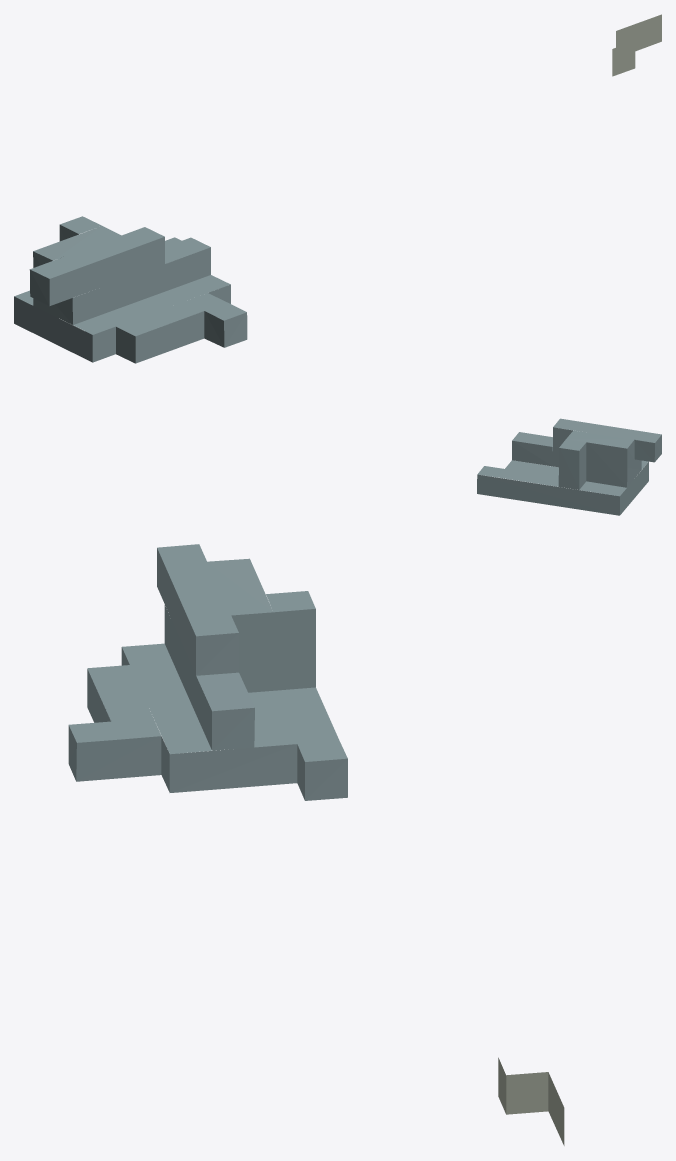
The picture shows the model from 3 angles, top to bottom: view 1: azimuth 30°, elevation 25°; view 2: azimuth 150°, elevation 25°; view 3: azimuth 270°, elevation 25°; orthographic projection. The views are drawn at different scales.
Visible parts, largest first — view 1: measured-industrial; view 2: measured-industrial; view 3: measured-industrial.
Boxes of the visible parts, bbox=[...] form: measured-industrial: bbox=[14, 14, 661, 363]; measured-industrial: bbox=[477, 418, 661, 515]; measured-industrial: bbox=[68, 544, 564, 1145].
Bounding box in the file's own units: 28.96 × 3.02 × 12.45.
